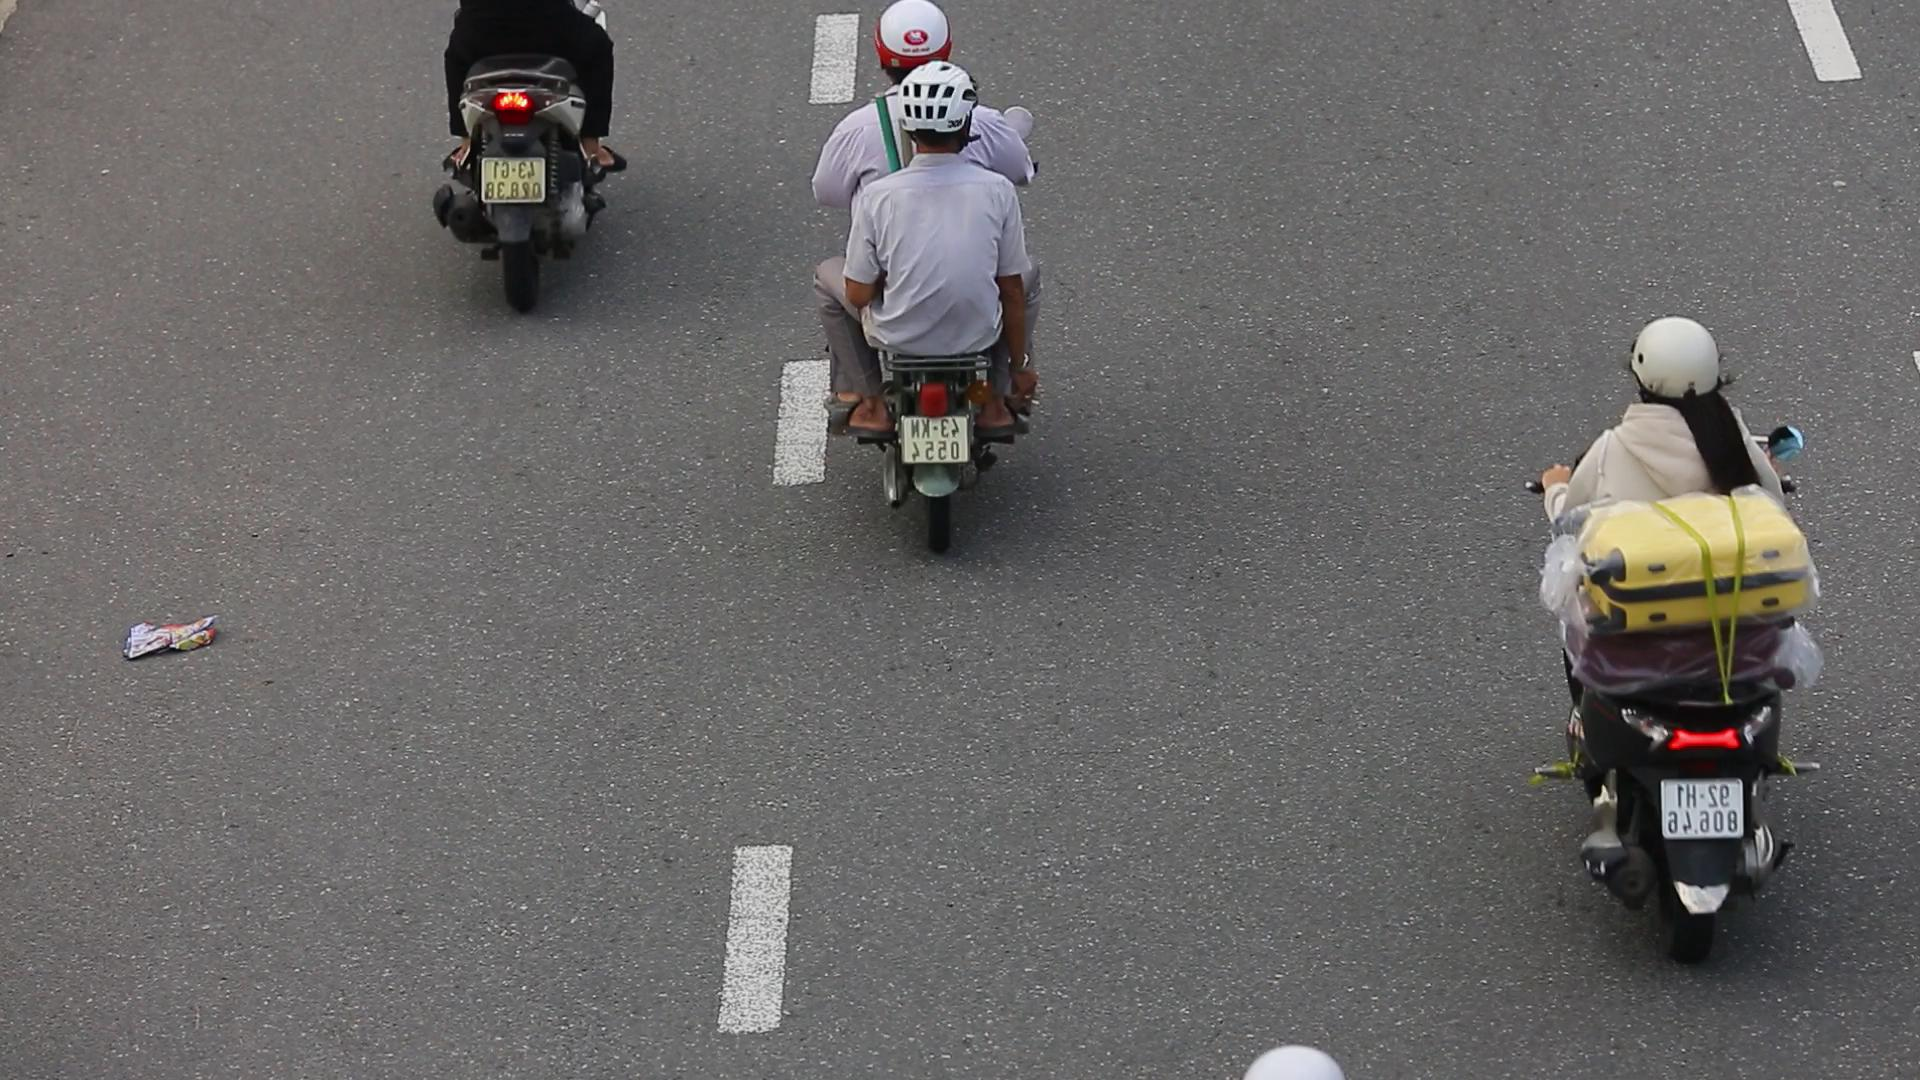motobike: (1527, 313, 1854, 986), (802, 12, 1058, 568)
